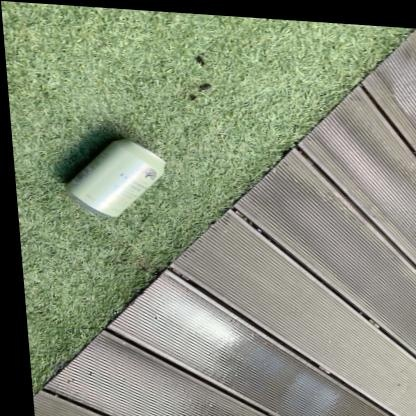trash: (68, 139, 164, 216)
